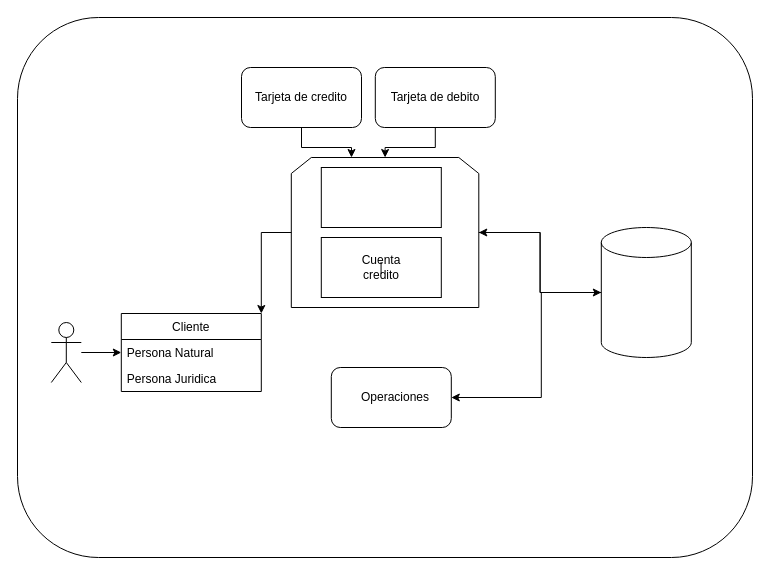
The diagram is 770 pixels wide and 575 high, and some of its shapes have lost their labels. The box of each missing label's shape, as (x1, y1, x2, y2) in pixels:
Actor: (50, 322, 81, 382)
Aplicativo Quarkus: (600, 226, 691, 358)
Cuenta debito: (320, 166, 441, 228)
